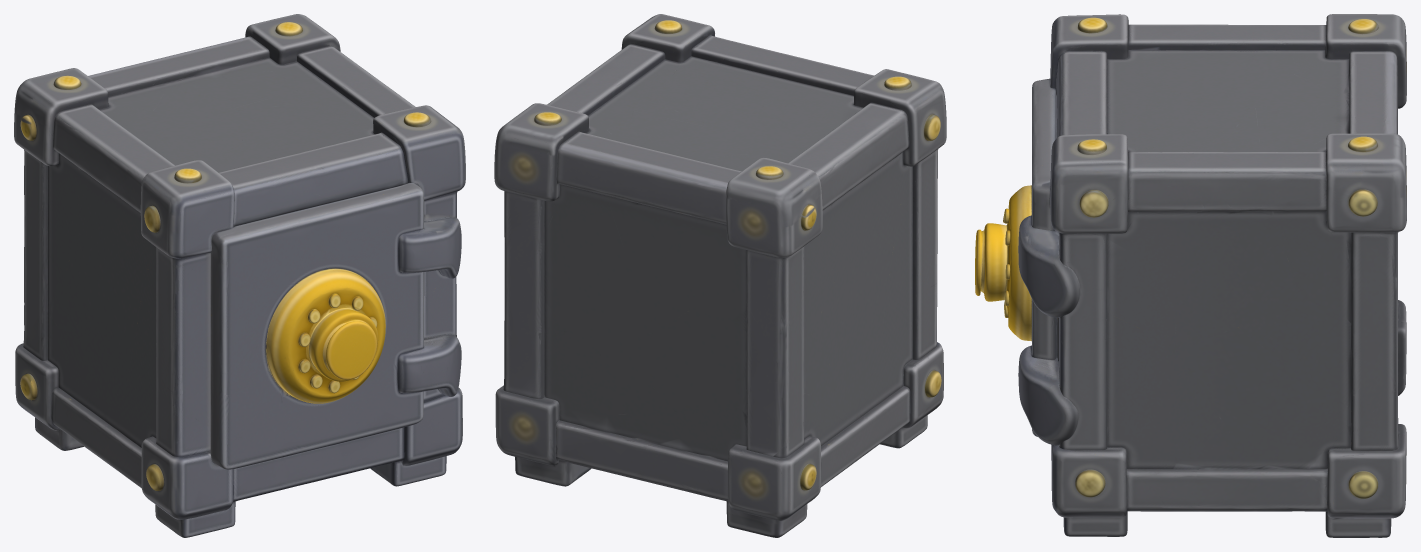
Rendered from Meshy_AI_Fortified_Lockbox_1009143153_texture.fbx.
The picture shows the model from 3 angles, left to right: view 1: azimuth 30°, elevation 25°; view 2: azimuth 150°, elevation 25°; view 3: azimuth 270°, elevation 25°; orthographic projection. The views are drawn at different scales.
Parts seen in each view (by area): view 1: Mesh_0; view 2: Mesh_0; view 3: Mesh_0.
Boxes of the visible parts, box(x1,y1,x2,y2) form: Mesh_0: box(14, 14, 465, 537); Mesh_0: box(494, 14, 946, 537); Mesh_0: box(975, 14, 1406, 537).
Bounding box in the file's own units: 170 × 188 × 190.
1 material, 1 textured.
